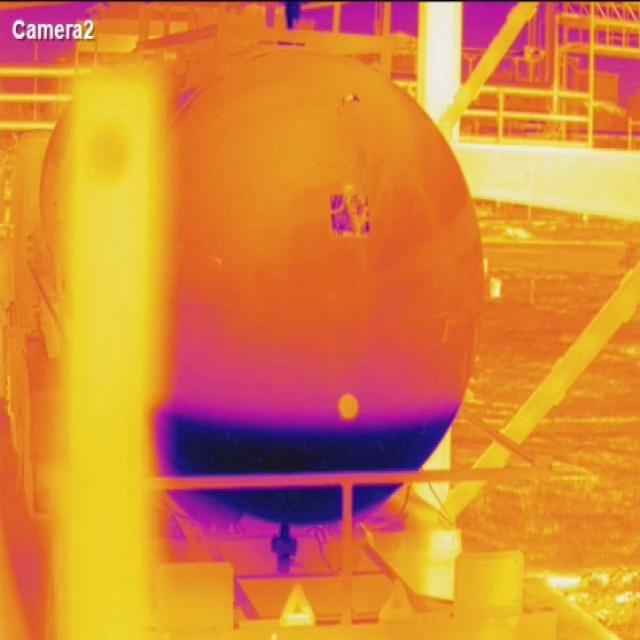tank: (155, 49, 483, 524)
